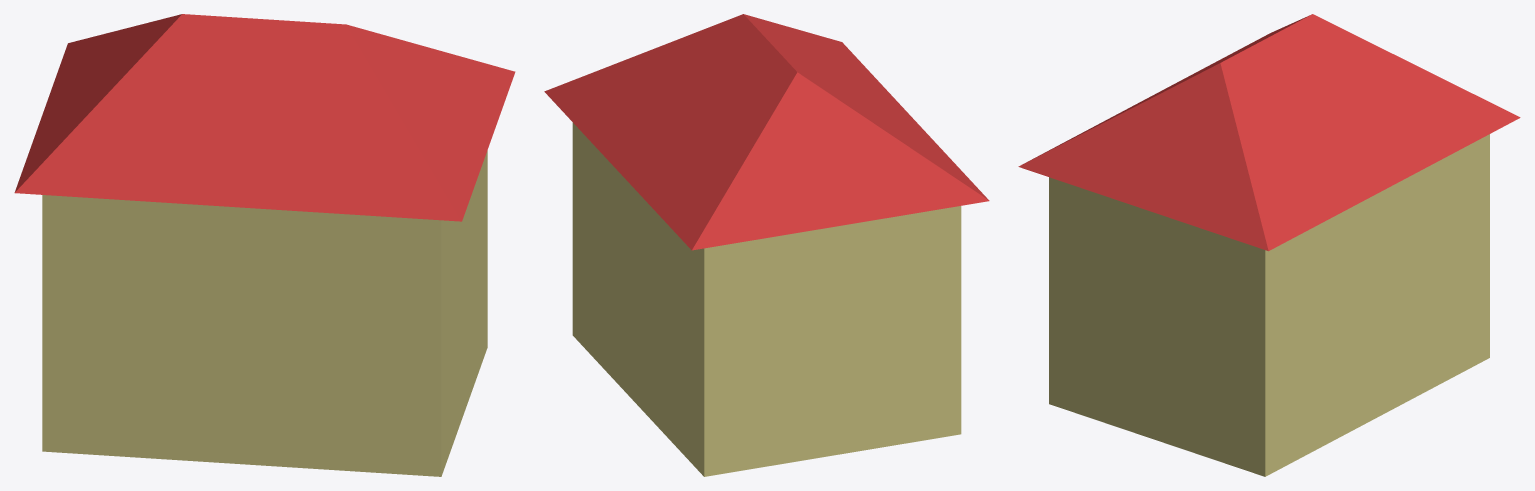
3 views of the same model, side by side, from view 1: azimuth 30°, elevation 25°; view 2: azimuth 150°, elevation 25°; view 3: azimuth 270°, elevation 25° (orthographic). The views are drawn at different scales.
Visible parts, largest first — view 1: group_5, group_3, group_4; view 2: group_5, group_3, group_4; view 3: group_5, group_3, group_4.
Part boxes in pixels (box(x1,y1,x2,y2)): group_5: box(42, 150, 487, 476); group_3: box(14, 14, 486, 221); group_4: box(15, 38, 515, 220); group_5: box(572, 122, 961, 476); group_3: box(544, 14, 989, 250); group_4: box(546, 78, 988, 250); group_5: box(1049, 134, 1489, 476); group_3: box(1019, 14, 1520, 250); group_4: box(1018, 153, 1448, 250).
Size of the model in its own units: 17.63 by 17.17 by 12.87.
